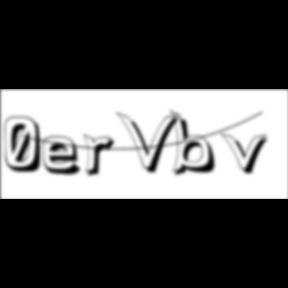0: (4, 115, 50, 174)
V: (117, 110, 184, 176)
b: (170, 109, 222, 179)
e: (43, 135, 89, 178)
r: (83, 134, 121, 180)
v: (221, 131, 275, 177)
